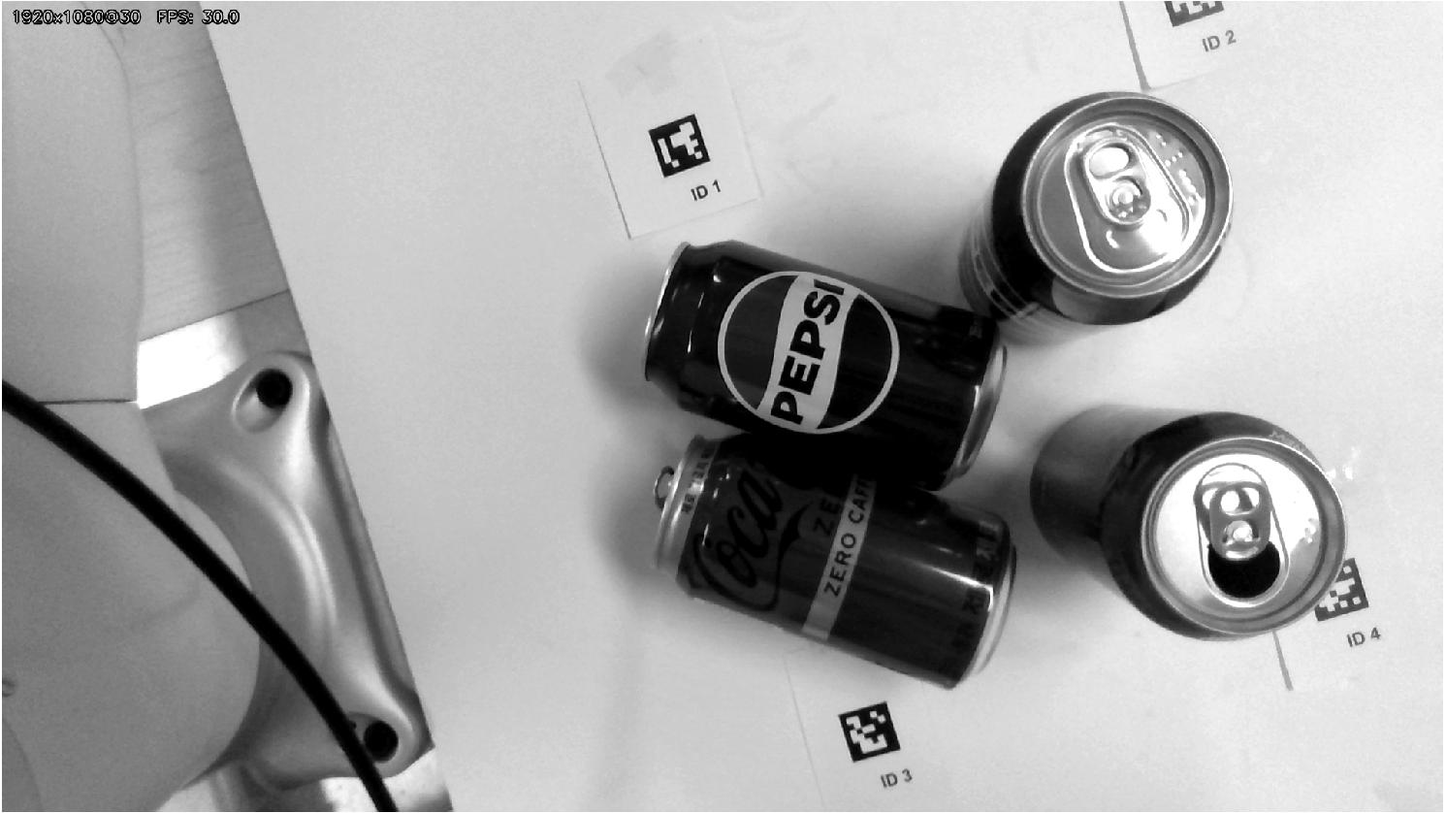can_coke_decaf: (658, 435, 1014, 688)
can_coke_zero: (1031, 406, 1346, 639)
can_pepsi: (644, 241, 1004, 490)
can_pepsi_zero: (960, 92, 1232, 339)
